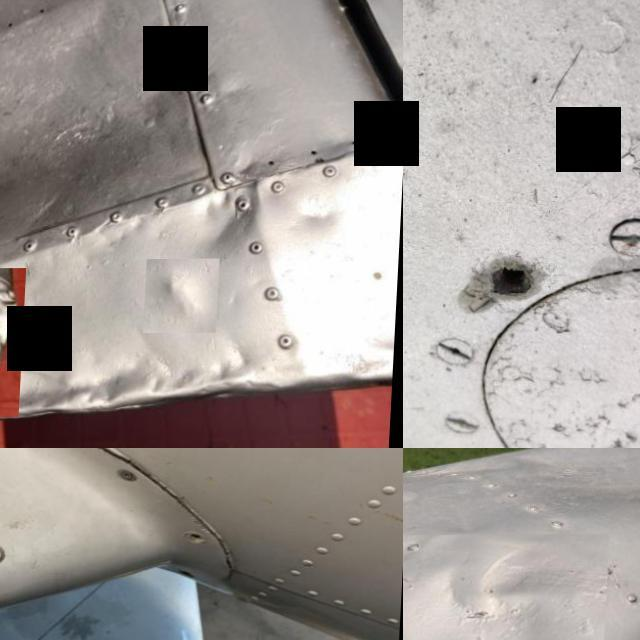Crack: (175, 485, 269, 573), (52, 448, 149, 479), (0, 587, 12, 608)
Dent: (0, 325, 275, 447), (403, 533, 611, 640), (192, 166, 288, 265), (280, 176, 356, 250), (148, 260, 224, 334)
Missing_Fastener: (456, 232, 564, 336), (191, 532, 212, 545)
